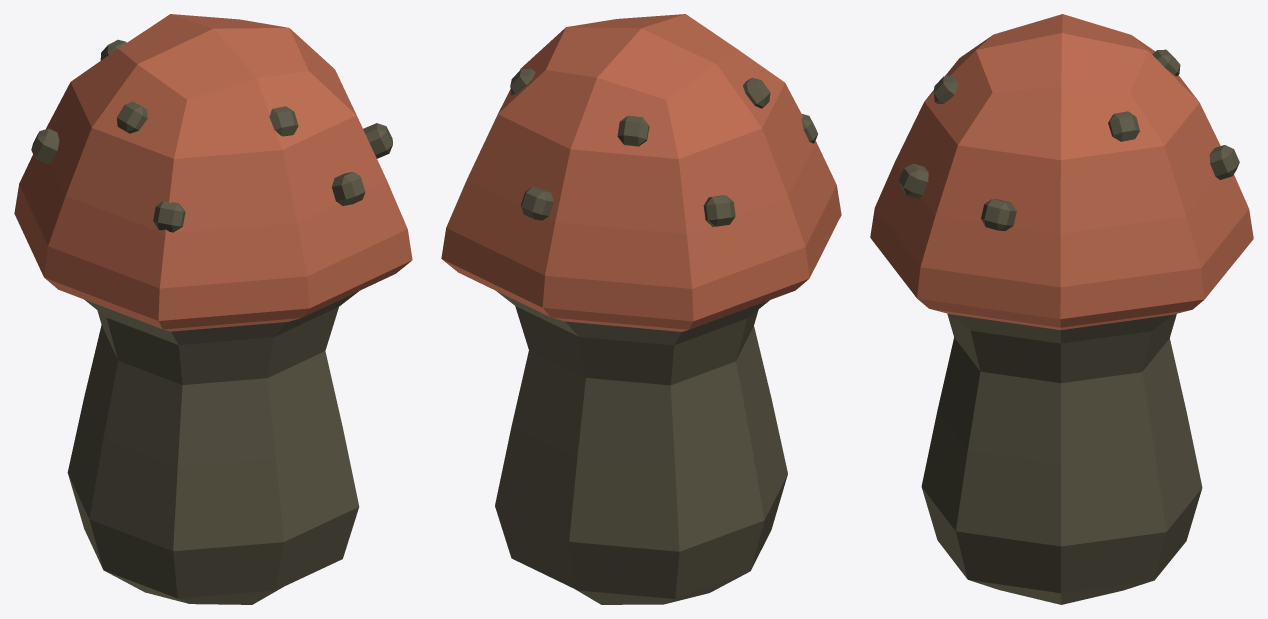
The model's file is fungus_mushroom_2.glb.
3 views of the same model, side by side, from view 1: azimuth 30°, elevation 25°; view 2: azimuth 150°, elevation 25°; view 3: azimuth 270°, elevation 25° (orthographic).
Visible parts, largest first — view 1: Mushroom_2_Cube.045; view 2: Mushroom_2_Cube.045; view 3: Mushroom_2_Cube.045.
Boxes of the visible parts, x1=… form: Mushroom_2_Cube.045: x1=14, y1=14, x2=412, y2=604; Mushroom_2_Cube.045: x1=441, y1=14, x2=841, y2=604; Mushroom_2_Cube.045: x1=870, y1=14, x2=1253, y2=604.
Size of the model in its own units: 0.2531 by 0.4 by 0.2531.
